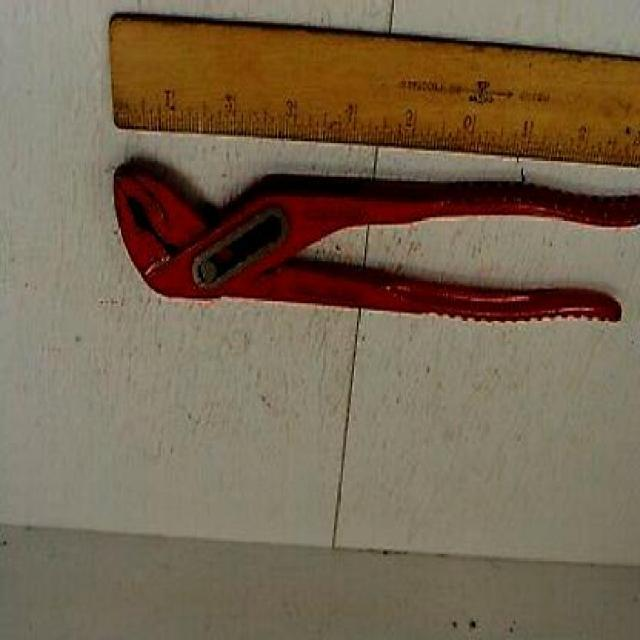pliers: (106, 167, 640, 327)
